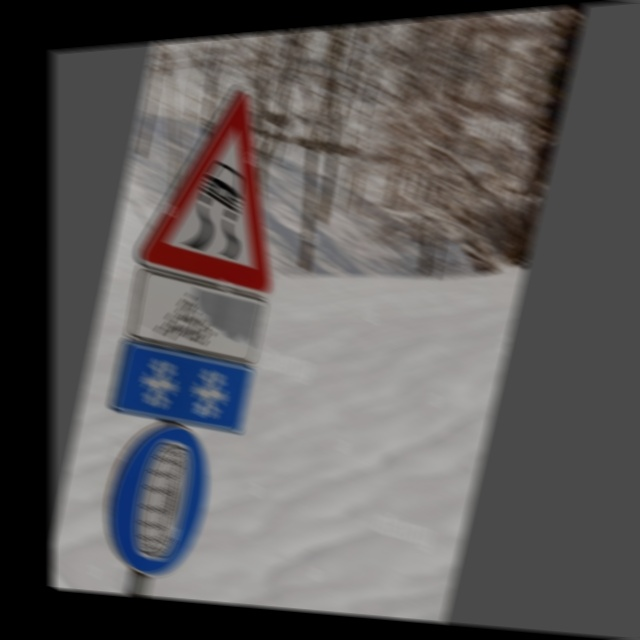Slippery_Road: (143, 65, 313, 297)
